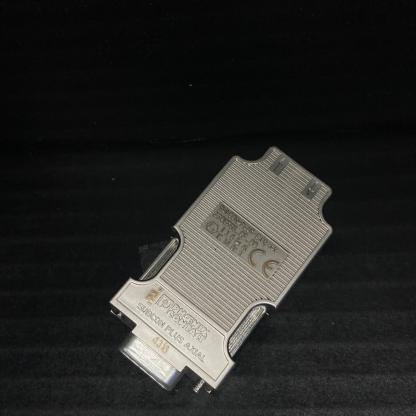SP0000010: (73, 96, 402, 416)
